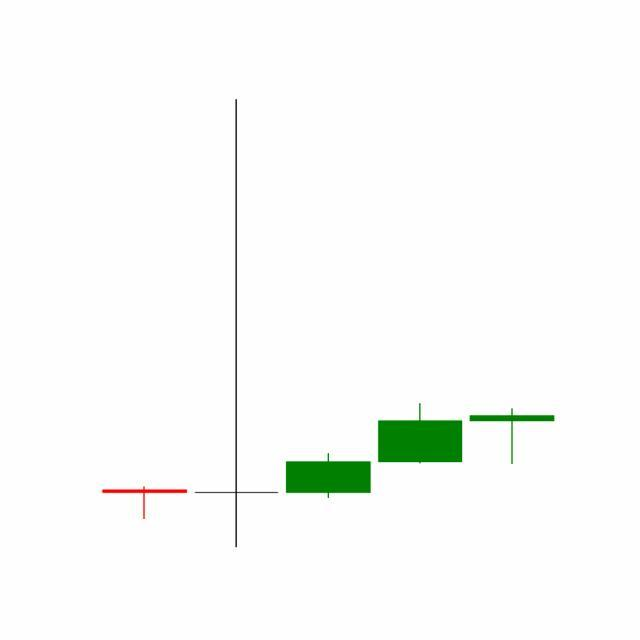Spinning Top: (466, 408, 559, 466)
